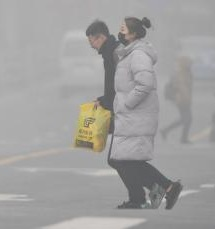person: (71, 17, 151, 210), (114, 15, 185, 211), (160, 55, 199, 146)
